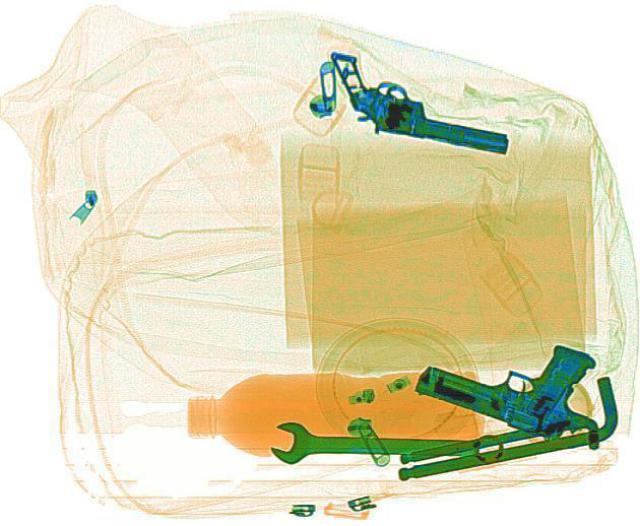Gun: (408, 304, 638, 453), (300, 47, 528, 164)
Wrench: (267, 417, 503, 471)
